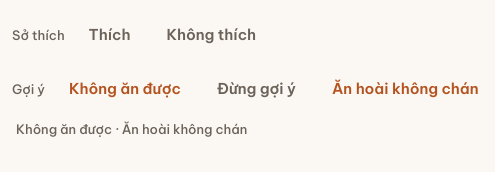
DishPreferenceControls (M3-T6 — nửa còn thiếu của E7-T5) › E13-T7 — ba cờ ĐỘC LẬP: bật cái này không tắt cái kia, và cả ba đọc được bằng chữ
Expected: the text "Không ăn được · Ăn hoài không chán" is shown, [16,121,247,137]
Click the button with aria-label "Đừng gợi ý — Canh chua cá lóc": (256, 89) [201,66,312,112]
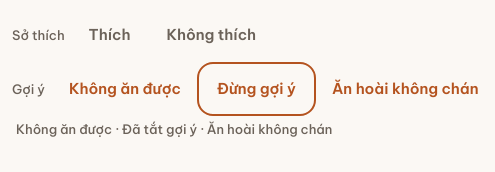
Expected: the text "Không ăn được · Đã tắt gợi ý · Ăn hoài không chán" is shown, [16,121,332,137]
